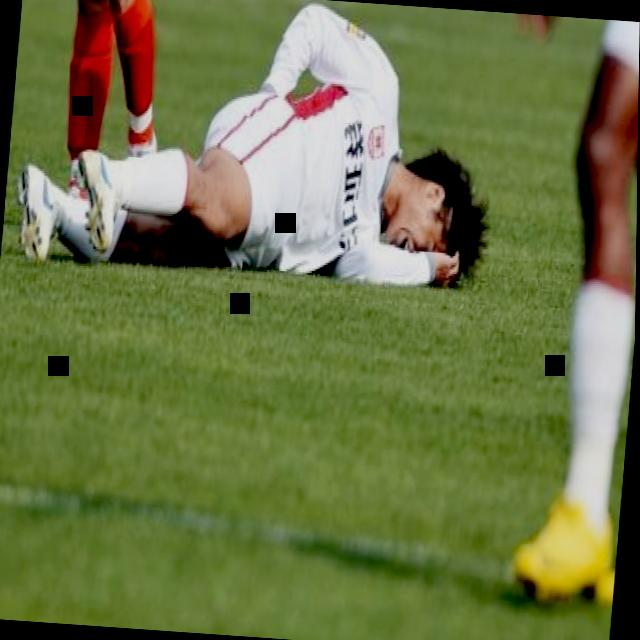Fall-Detected: (22, 0, 499, 297)
